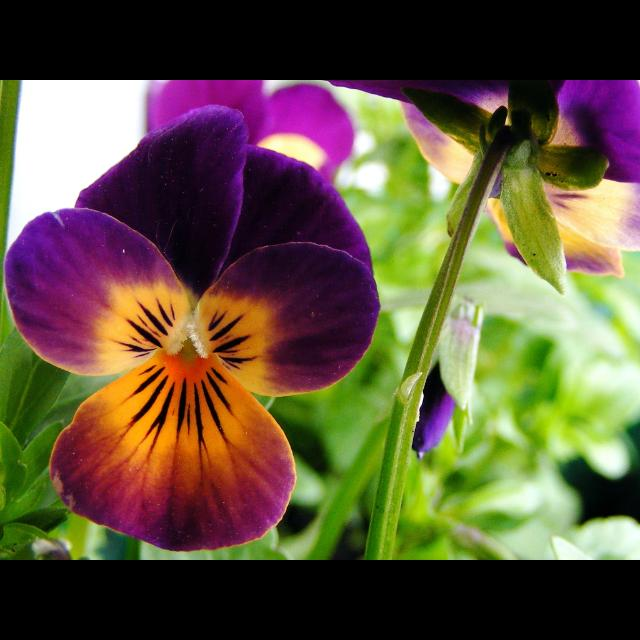Flower: (11, 122, 398, 546), (325, 80, 639, 278), (146, 80, 352, 188), (412, 364, 460, 460)
